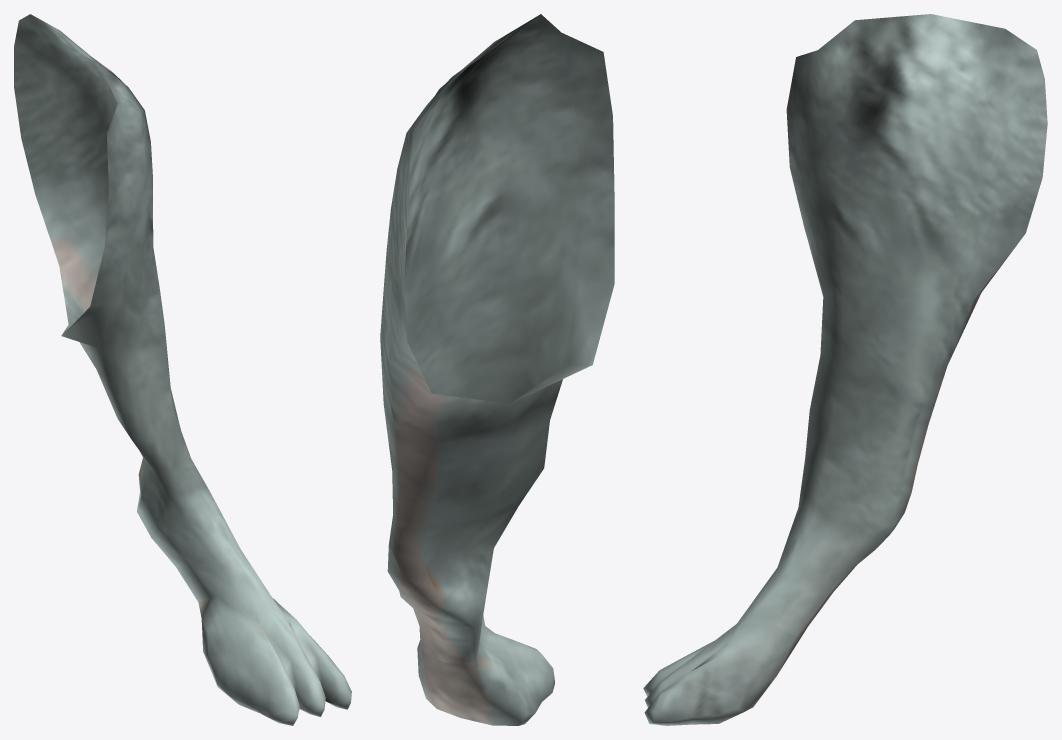
The model's file is Lpatafi.obj.
3 views of the same model, side by side, from view 1: azimuth 30°, elevation 25°; view 2: azimuth 150°, elevation 25°; view 3: azimuth 270°, elevation 25° (orthographic). The views are drawn at different scales.
Visible parts, largest first — view 1: Cube.001; view 2: Cube.001; view 3: Cube.001.
Part boxes in pixels (<box>): Cube.001: <box>14,14,351,725</box>; Cube.001: <box>380,14,614,725</box>; Cube.001: <box>643,14,1047,725</box>.
Bounding box in the file's own units: 0.1923 × 0.5869 × 0.3362.
1 material, 1 textured.
